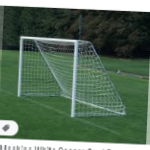goals: (15, 34, 126, 118)
